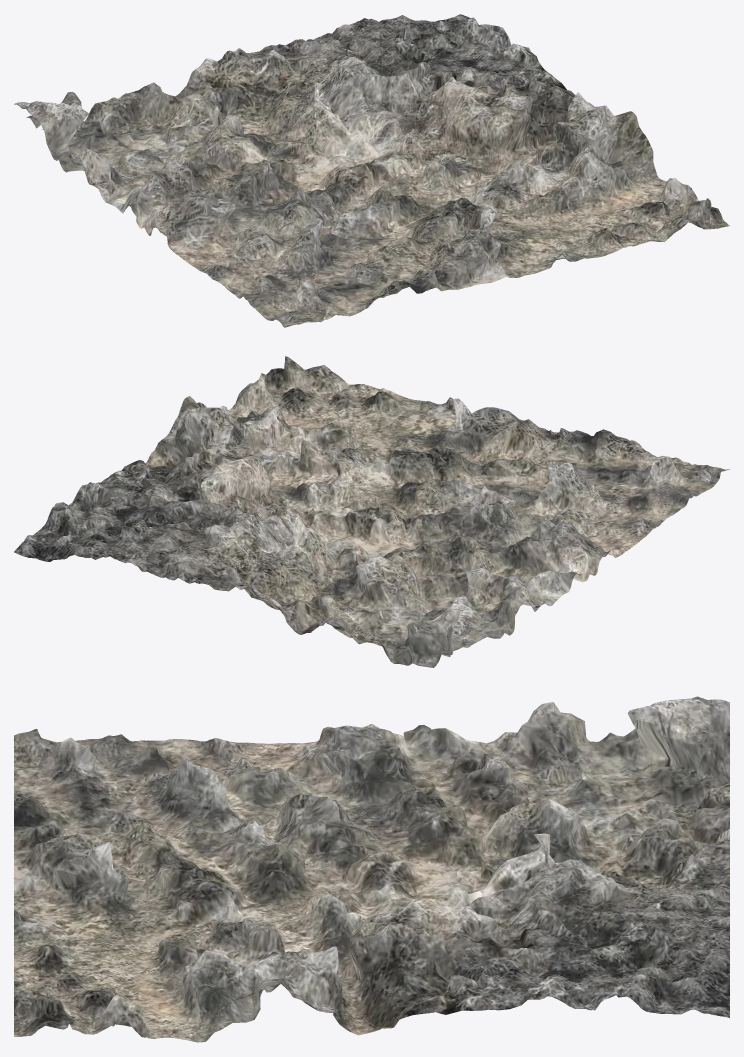
Rendered from Block_L20_213.glb.
3 views of the same model, one above another, from view 1: azimuth 30°, elevation 25°; view 2: azimuth 150°, elevation 25°; view 3: azimuth 270°, elevation 25° (orthographic). The views are drawn at different scales.
Visible parts, largest first — view 1: rtc; view 2: rtc; view 3: rtc.
Boxes of the visible parts, x1,y1,x2,y2 form: rtc: [14, 14, 729, 327]; rtc: [14, 356, 729, 667]; rtc: [14, 696, 729, 1042].
Size of the model in its own units: 20.27 by 3.25 by 21.17.
3 materials, 3 textured.
